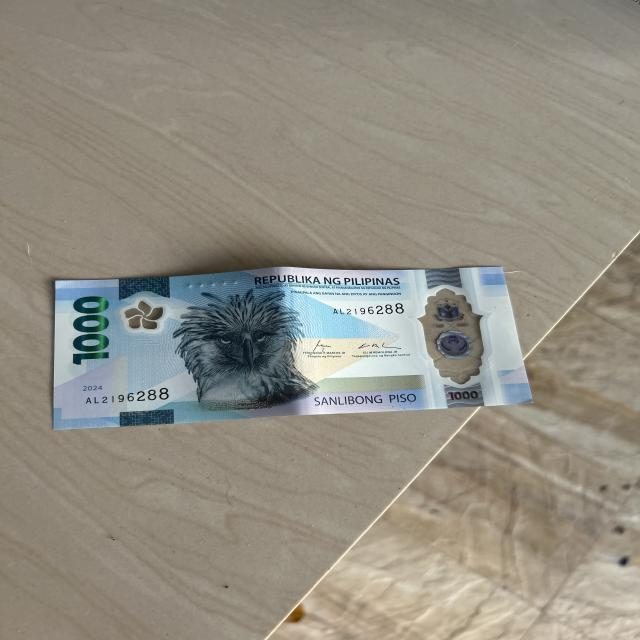clear_window: (414, 282, 497, 386)
eagle: (176, 293, 306, 404)
sampaguita: (122, 298, 164, 330)
